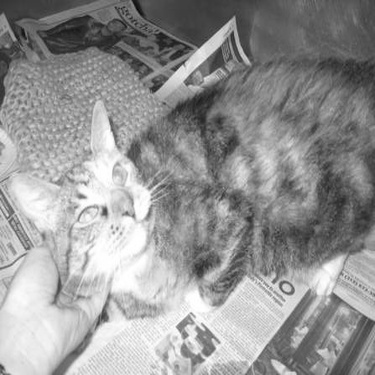cat: (1, 49, 370, 320)
